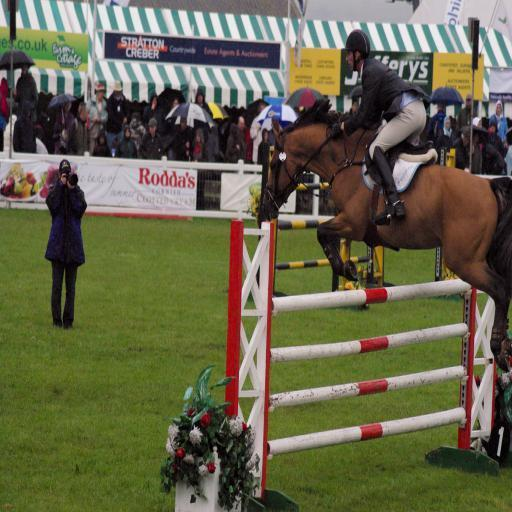horse: (260, 98, 512, 372)
